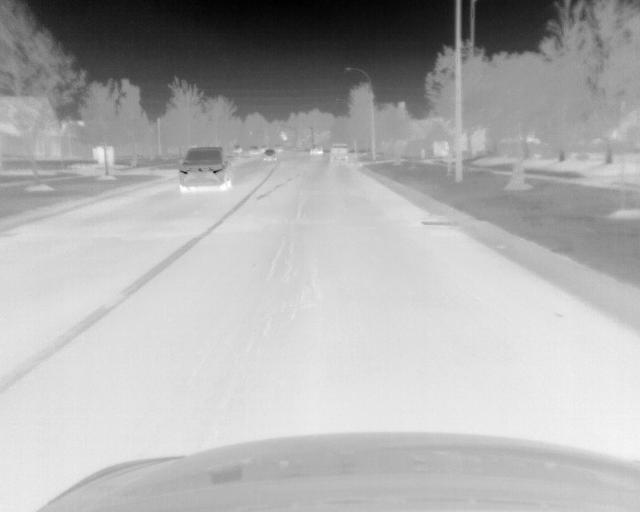car: (176, 146, 233, 192), (329, 143, 348, 162), (264, 149, 277, 162), (310, 143, 323, 156)
